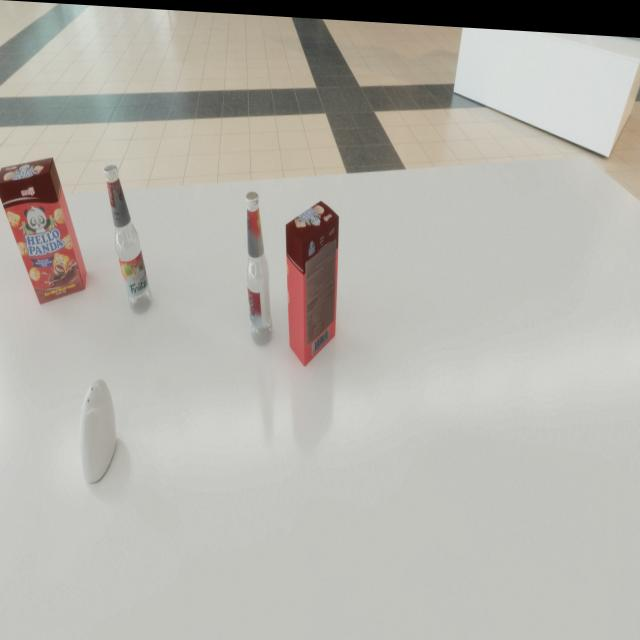Bottle: (104, 163, 152, 312), (245, 188, 273, 343)
HelloPanda: (0, 154, 86, 305), (286, 195, 339, 364)
Salt: (80, 376, 116, 483)
